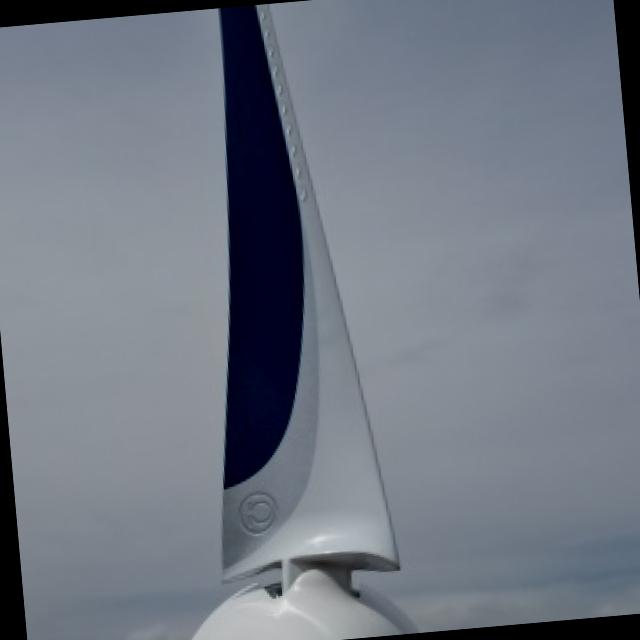healthy: (190, 8, 416, 640)
